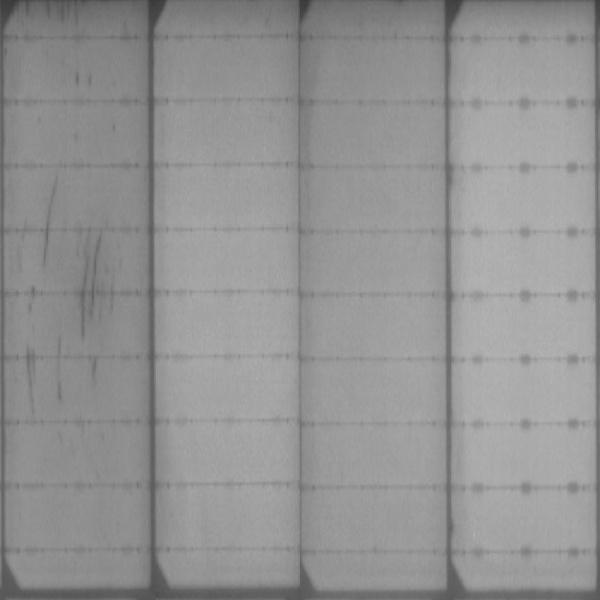scratch: (82, 225, 114, 383), (32, 178, 58, 269), (20, 1, 83, 28), (21, 341, 42, 414), (53, 335, 71, 404), (69, 68, 99, 92)
